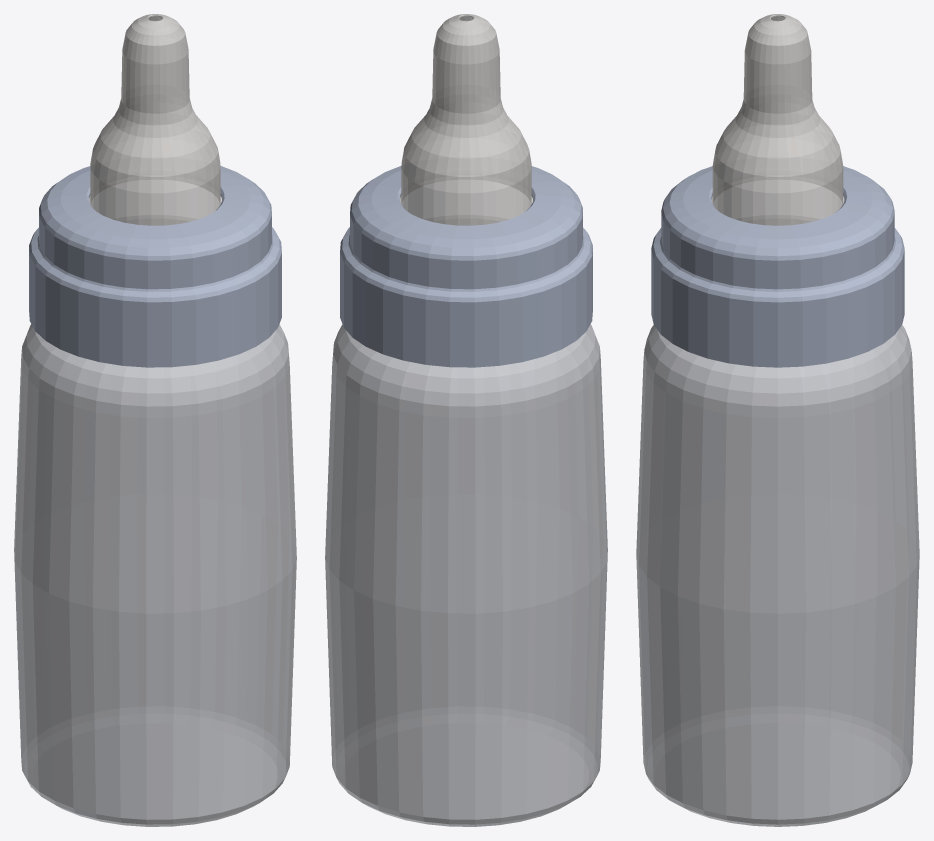
File: sweethome3d-blendswap-cc-0-baby-bottle.glb
3 renders of one model, left to right at view 1: azimuth 30°, elevation 25°; view 2: azimuth 150°, elevation 25°; view 3: azimuth 270°, elevation 25°, orthographic.
Visible parts, largest first — view 1: Cylinder; view 2: Cylinder; view 3: Cylinder.
Boxes of the visible parts, left/top/right/bottom form: Cylinder: left=14, top=14, right=296, bottom=826; Cylinder: left=325, top=14, right=607, bottom=826; Cylinder: left=636, top=14, right=919, bottom=826.
Bounding box in the file's own units: 5 × 14.73 × 5.
